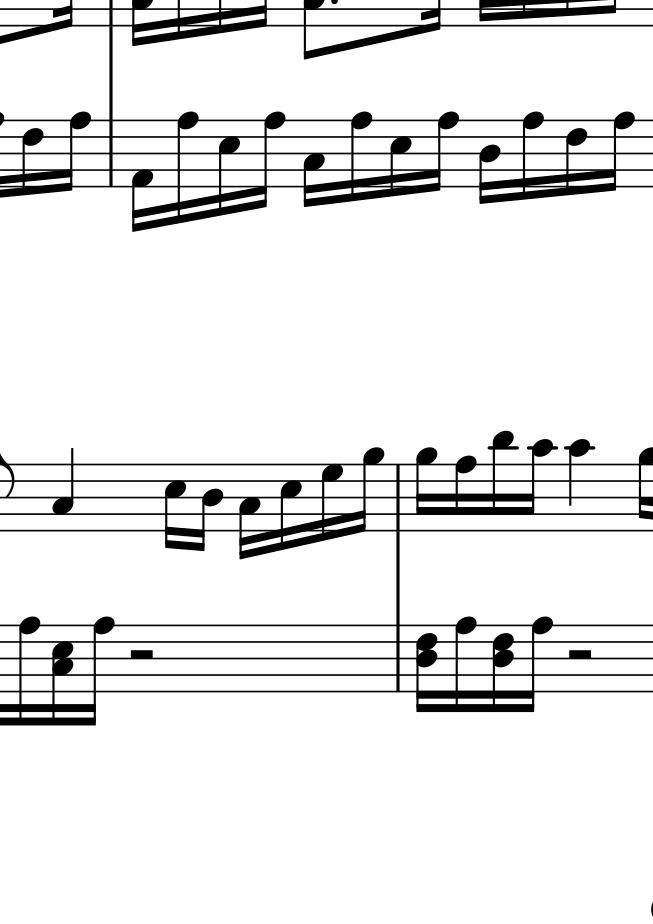16_1: (129, 118, 153, 233)
16_10: (523, 438, 555, 533)
16_11: (489, 427, 515, 532)
16_3: (237, 462, 260, 561), (301, 118, 325, 209)
16_3_5: (50, 623, 76, 729)
16_4: (193, 463, 224, 554), (476, 117, 501, 206)
16_4_6: (415, 623, 439, 713), (492, 623, 516, 713)
16_5: (216, 118, 240, 218), (162, 462, 186, 552), (278, 462, 302, 552), (387, 117, 413, 198)
16_6: (19, 117, 44, 197), (564, 117, 588, 198)
16_7: (318, 460, 343, 544)
16_8: (251, 110, 286, 212), (82, 615, 114, 726), (520, 615, 552, 713), (16, 614, 42, 727), (174, 111, 199, 226), (426, 111, 460, 193), (57, 111, 90, 193), (602, 111, 635, 193), (453, 614, 478, 714), (348, 110, 373, 204), (519, 110, 544, 202), (452, 455, 477, 533)
16_9: (355, 446, 384, 535), (413, 446, 437, 533)
4_10: (566, 437, 592, 534)
4_3: (50, 448, 75, 532)
Rests2: (127, 647, 157, 662), (565, 647, 594, 662)
Single_barline: (103, 118, 119, 185), (390, 465, 406, 531), (390, 625, 406, 690)
